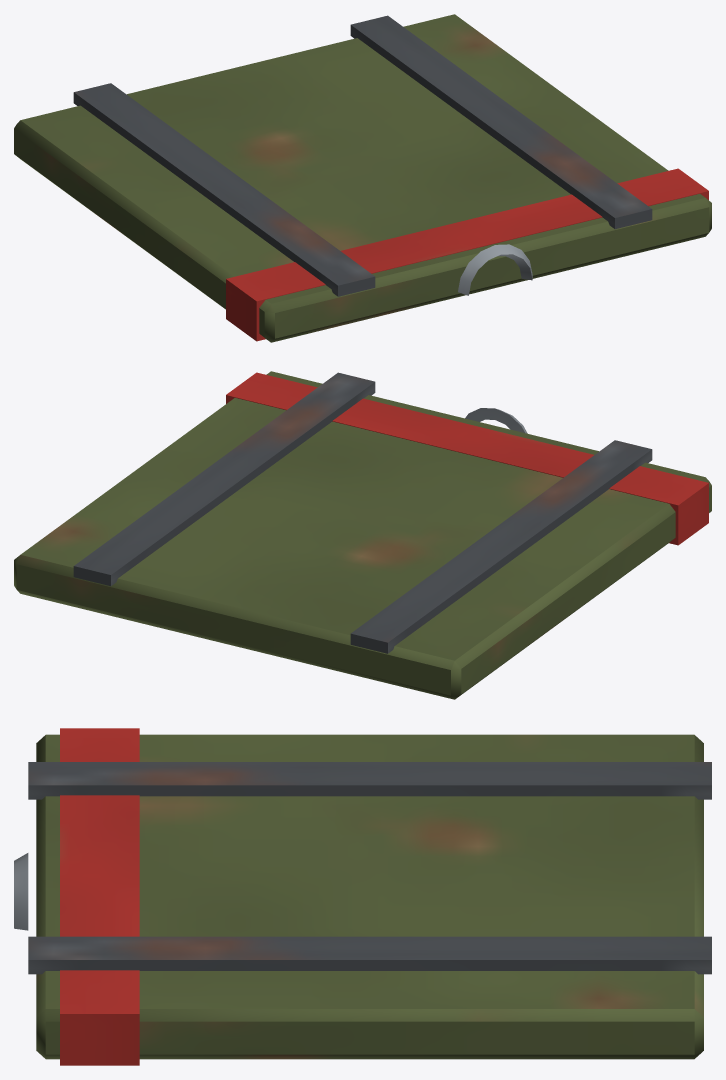
The model's file is SM_CarePackage_Lid.fbx.
3 renders of one model, top to bottom at view 1: azimuth 30°, elevation 25°; view 2: azimuth 150°, elevation 25°; view 3: azimuth 270°, elevation 25°, orthographic. The views are drawn at different scales.
Visible parts, largest first — view 1: SM_CarePackage_Lid; view 2: SM_CarePackage_Lid; view 3: SM_CarePackage_Lid.
Part boxes in pixels (box(x1,y1,x2,y2)): SM_CarePackage_Lid: box(14, 14, 711, 342); SM_CarePackage_Lid: box(14, 371, 711, 699); SM_CarePackage_Lid: box(14, 728, 711, 1065).
Bounding box in the file's own units: 4.25 × 0.452 × 4.39.
Materials: 1 (1 with a texture image).
